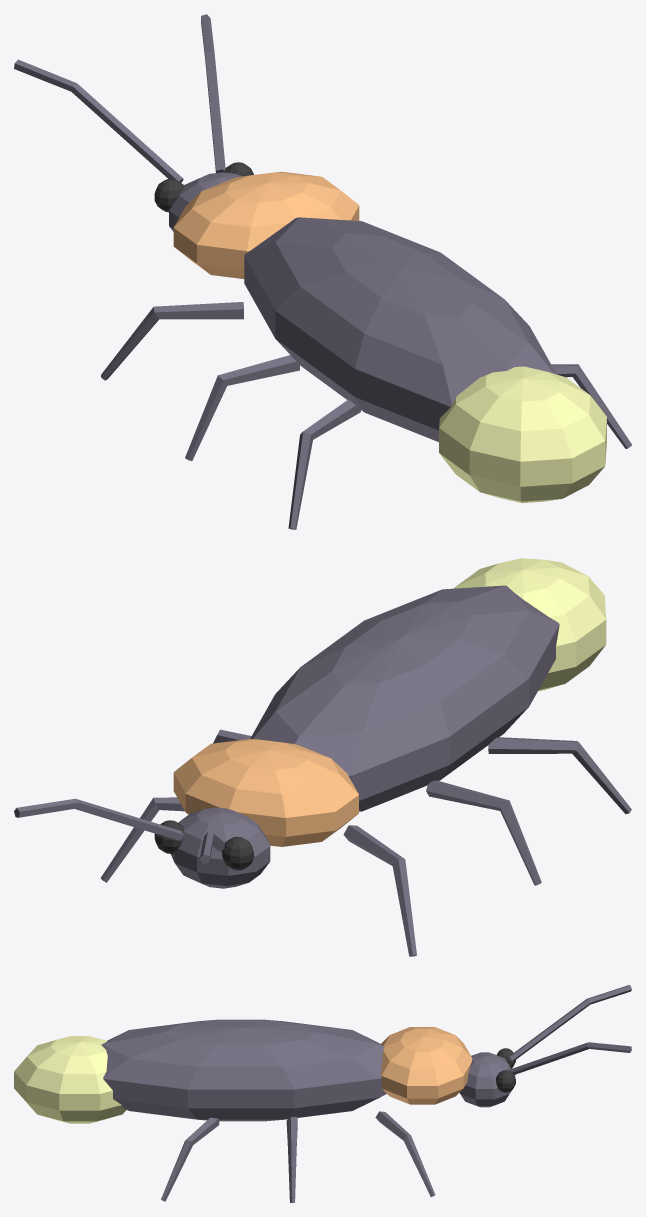
Rendered from Firefly.fbx.
The picture shows the model from 3 angles, top to bottom: view 1: azimuth 30°, elevation 25°; view 2: azimuth 150°, elevation 25°; view 3: azimuth 270°, elevation 25°; orthographic projection. The views are drawn at different scales.
Parts seen in each view (by area): view 1: Critter_Firefly; view 2: Critter_Firefly; view 3: Critter_Firefly.
Part boxes in pixels (x1,y1,x2,y2): Critter_Firefly: (14,14,631,529); Critter_Firefly: (14,558,631,956); Critter_Firefly: (14,985,631,1202).
Size of the model in its own units: 0.5292 by 0.2796 by 1.19.
